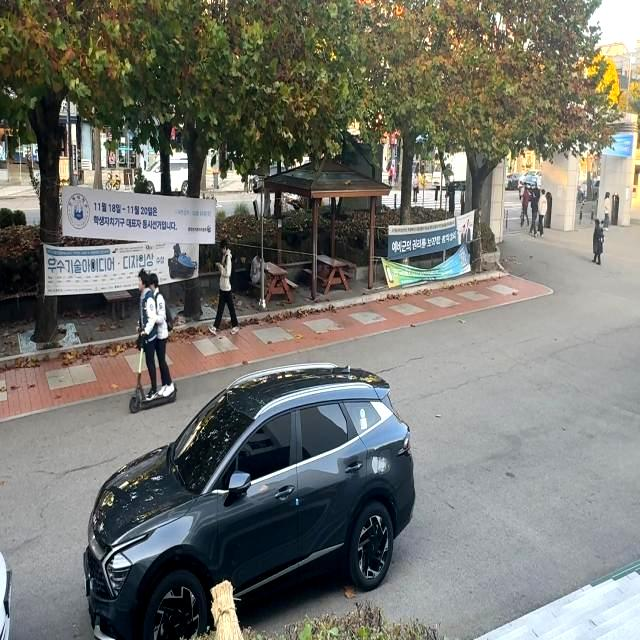bare_head: (131, 270, 151, 297), (145, 267, 162, 295)
human: (145, 269, 178, 400), (133, 266, 159, 401)
kickboard: (114, 383, 186, 414)
